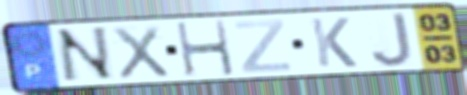H: (173, 19, 238, 79)
J: (369, 10, 416, 69)
K: (308, 16, 360, 69)
N: (53, 25, 119, 85)
X: (109, 24, 173, 81)
Z: (231, 18, 293, 74)
